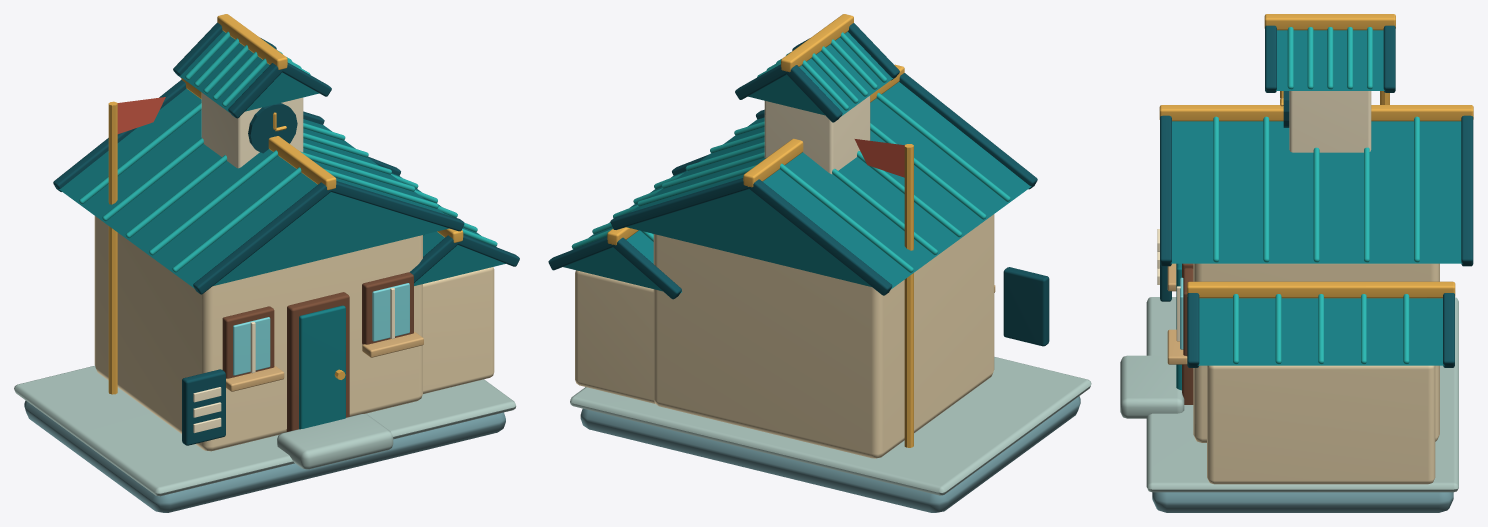
Rendered from Office_T2.fbx.
The picture shows the model from 3 angles, left to right: view 1: azimuth 30°, elevation 25°; view 2: azimuth 150°, elevation 25°; view 3: azimuth 270°, elevation 25°; orthographic projection. The views are drawn at different scales.
Parts seen in each view (by area): view 1: Office_T2_Static, Harbor pennant.001; view 2: Office_T2_Static, Harbor pennant.001; view 3: Office_T2_Static.
Boxes of the visible parts, bbox=[...] form: Office_T2_Static: bbox=[14, 14, 519, 512]; Harbor pennant.001: bbox=[117, 97, 165, 133]; Office_T2_Static: bbox=[548, 14, 1091, 512]; Harbor pennant.001: bbox=[854, 139, 904, 177]; Office_T2_Static: bbox=[1120, 14, 1473, 512].
Size of the model in its own units: 5.21 by 4.96 by 3.87.
Materials: 1 (1 with a texture image).
